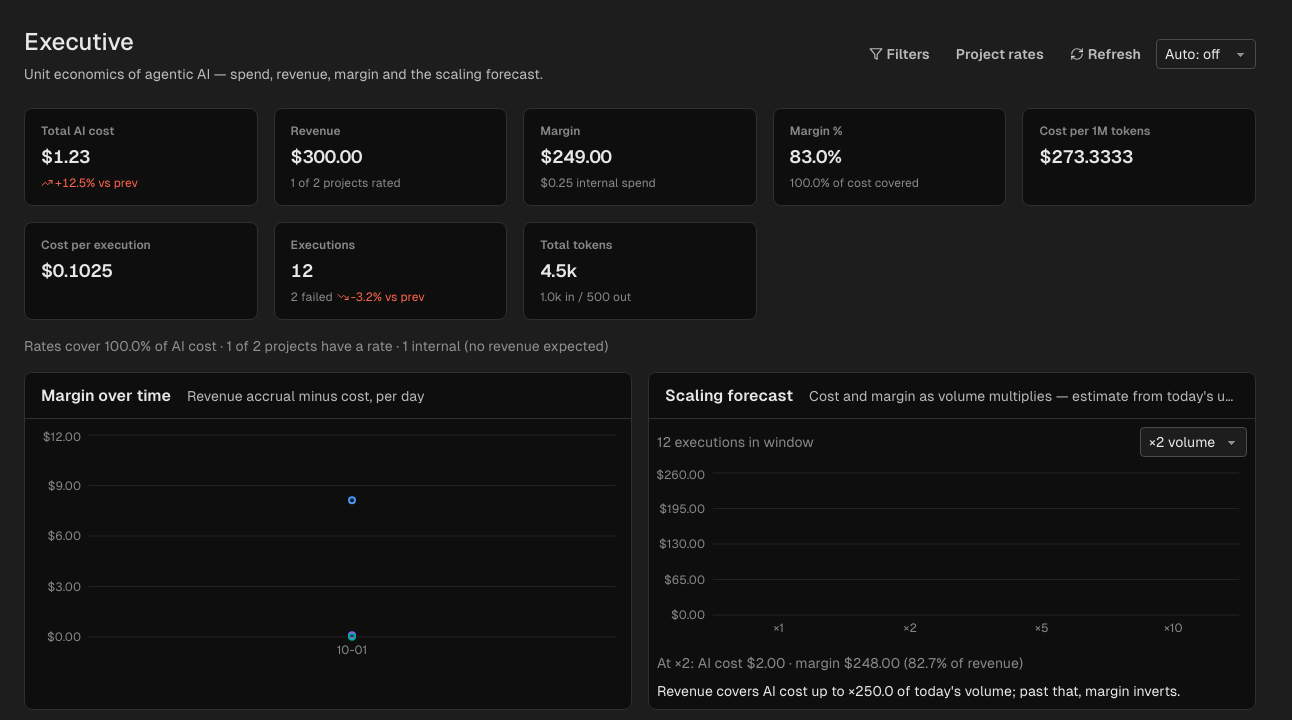
Scenario: Margin › compounds volume into the margin at the scaling forecast
The image size is (1292, 720).
×2: AI cost doubles, revenue and manual cost stay as entered.
Select "×2 volume" in the dropdown named "Scale": (1194, 442) [1140,427,1247,457]
Check: the text "At ×2: AI cost $2.00 · margin $248.00 (82.7% of revenue)" is shown, box [657,655,1023,671]
Select "×10 volume" in the dropdown named "Scale": (1194, 442) [1140,427,1247,457]
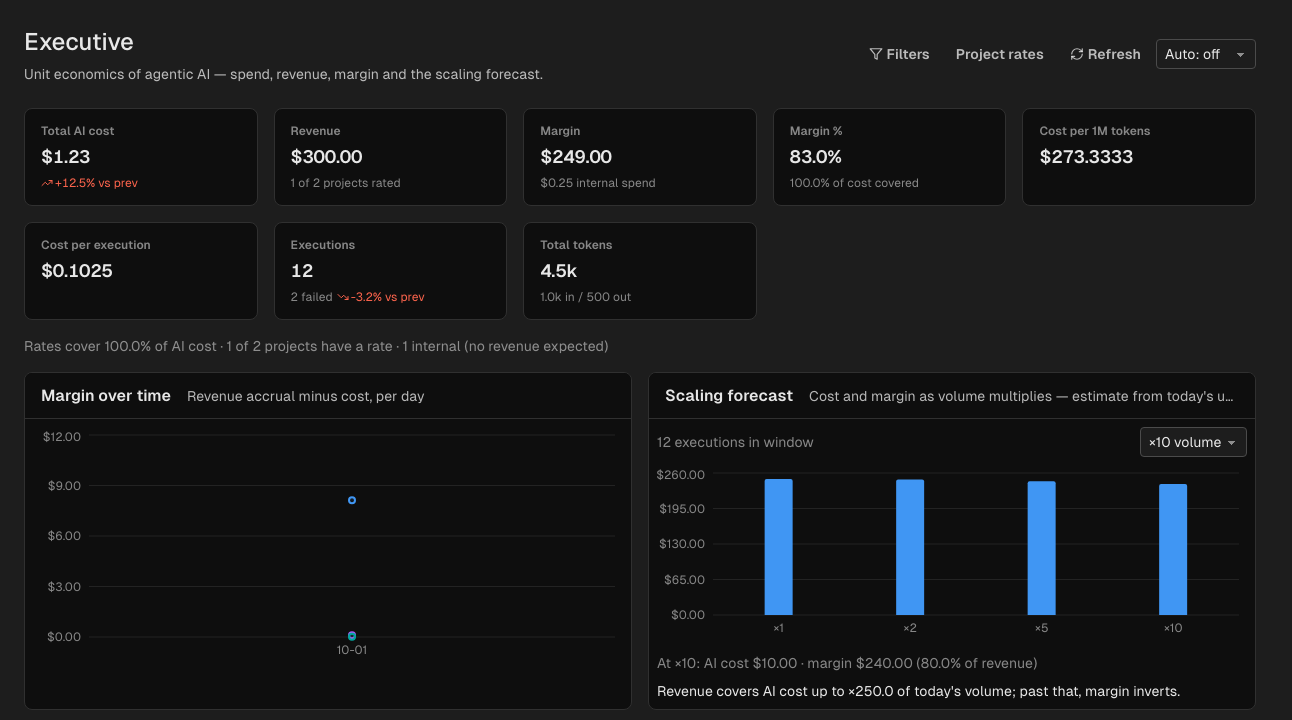
Check: the text "Revenue covers AI cost up to ×250.0 of today's volume" is shown, box [657,683,1180,699]
Check: the text "At ×10: AI cost $10.00 · margin $240.00 (80.0% of revenue)" is shown, box [657,655,1037,671]
